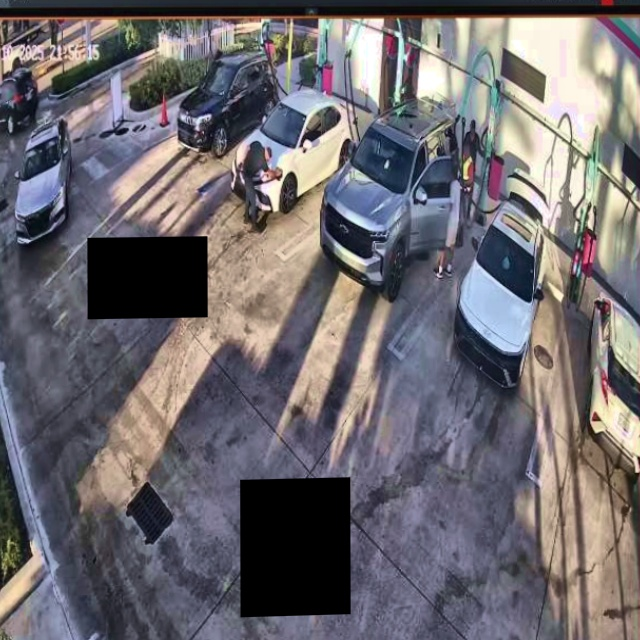Car: (323, 95, 465, 298), (456, 175, 549, 390), (231, 93, 355, 209), (178, 48, 278, 157)
